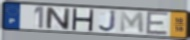1: (32, 5, 45, 30)
E: (145, 11, 170, 36)
H: (70, 8, 96, 33)
J: (98, 9, 118, 33)
M: (119, 10, 146, 35)
N: (45, 6, 71, 31)
